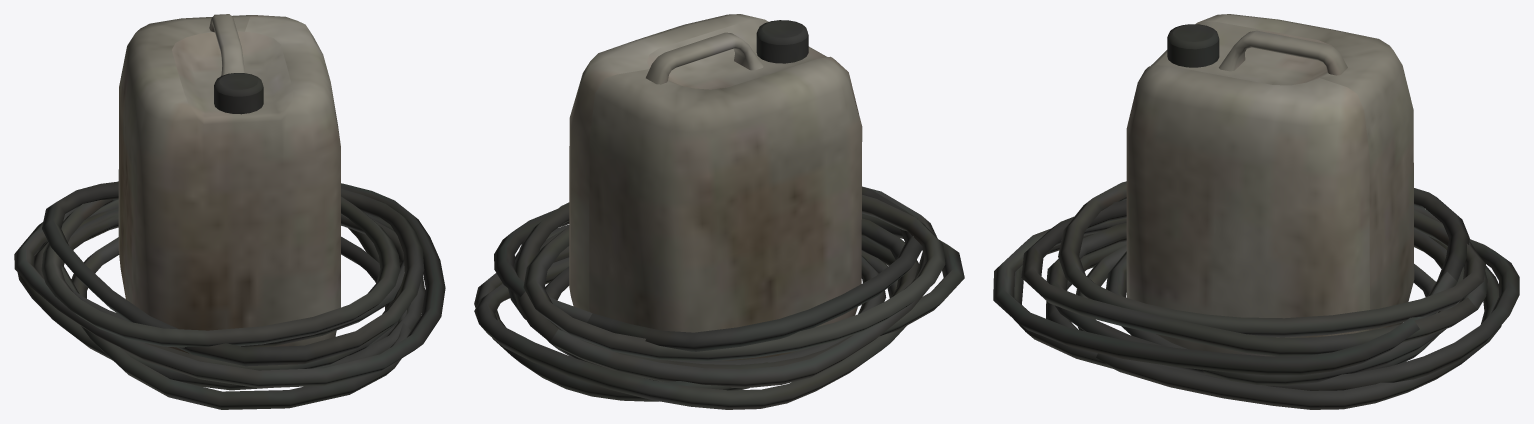
File: prop_small_002.glb
3 renders of one model, left to right at view 1: azimuth 30°, elevation 25°; view 2: azimuth 150°, elevation 25°; view 3: azimuth 270°, elevation 25°, orthographic. The views are drawn at different scales.
Parts seen in each view (by area): view 1: Building_12_006; view 2: Building_12_006; view 3: Building_12_006.
Boxes of the visible parts, bbox=[...] form: Building_12_006: bbox=[14, 14, 445, 409]; Building_12_006: bbox=[474, 14, 964, 409]; Building_12_006: bbox=[993, 14, 1519, 409].
Bounding box in the file's own units: 0.6767 × 0.5186 × 0.8.
Materials: 1 (1 with a texture image).
